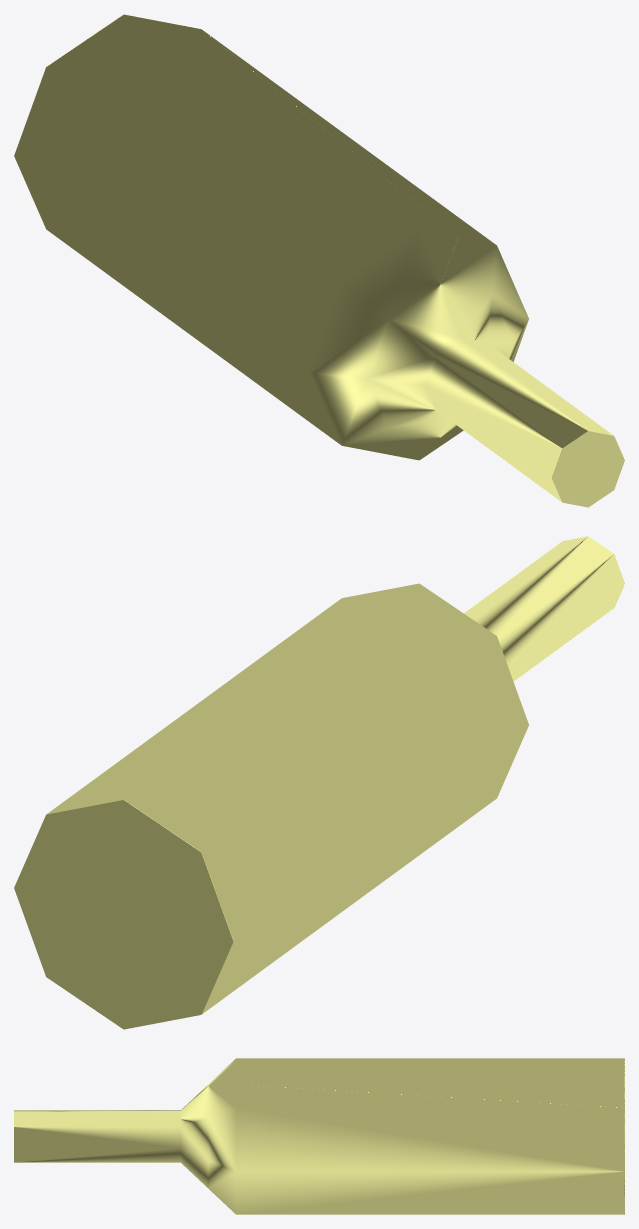
Rendered from model_align.obj.
3 renders of one model, top to bottom at view 1: azimuth 30°, elevation 25°; view 2: azimuth 150°, elevation 25°; view 3: azimuth 270°, elevation 25°, orthographic. The views are drawn at different scales.
Bounding box in the file's own units: 0.0697 × 0.0697 × 0.2557.
